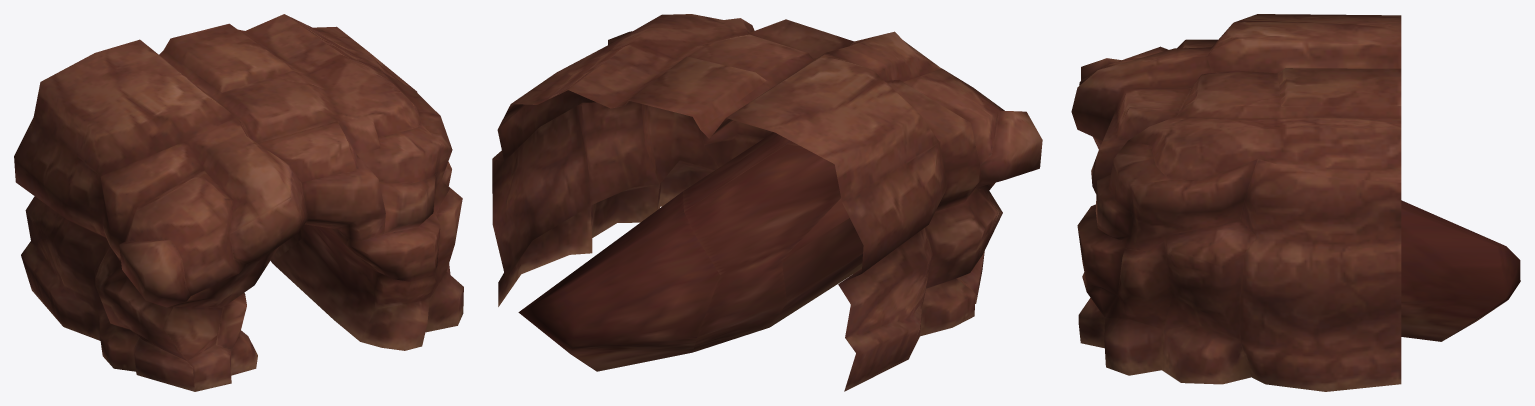
File: jtpy_boss.FBX
3 renders of one model, left to right at view 1: azimuth 30°, elevation 25°; view 2: azimuth 150°, elevation 25°; view 3: azimuth 270°, elevation 25°, orthographic. The views are drawn at different scales.
Visible parts, largest first — view 1: jtpy_boss; view 2: jtpy_boss; view 3: jtpy_boss.
Part boxes in pixels (x1,y1,x2,y2): jtpy_boss: [14, 14, 463, 391]; jtpy_boss: [492, 14, 1042, 391]; jtpy_boss: [1071, 14, 1520, 391].
Size of the model in its own units: 12.83 by 7.59 by 13.14.
